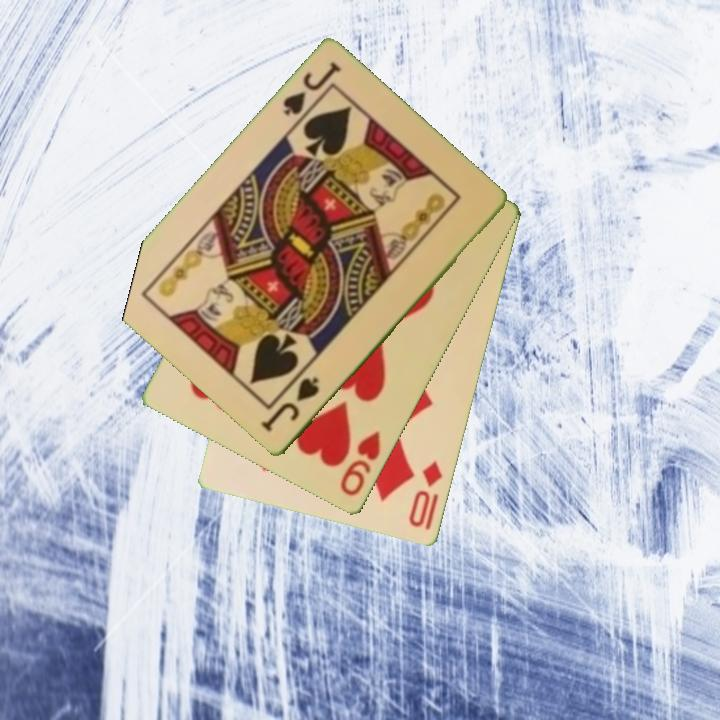10d: (405, 458, 446, 531)
9h: (336, 428, 384, 500)
Js: (279, 58, 344, 120), (259, 373, 322, 436)
